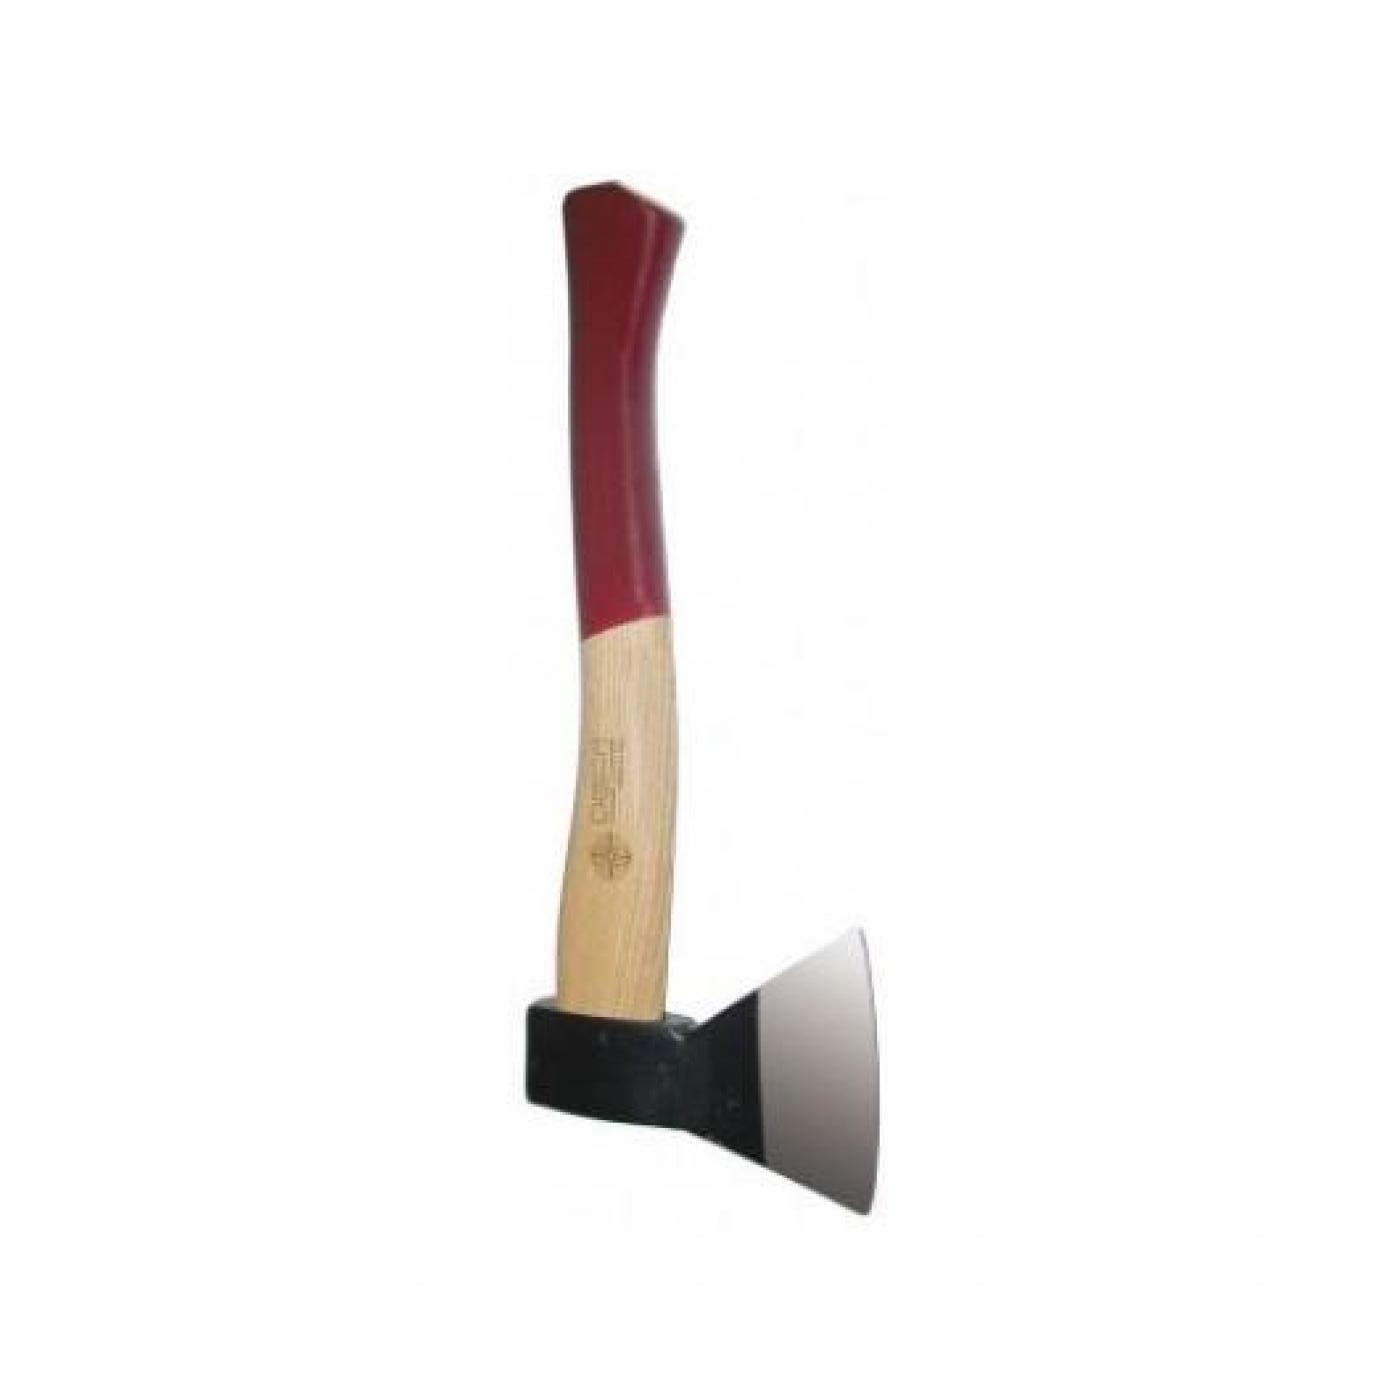machado: (526, 183, 879, 1214)
